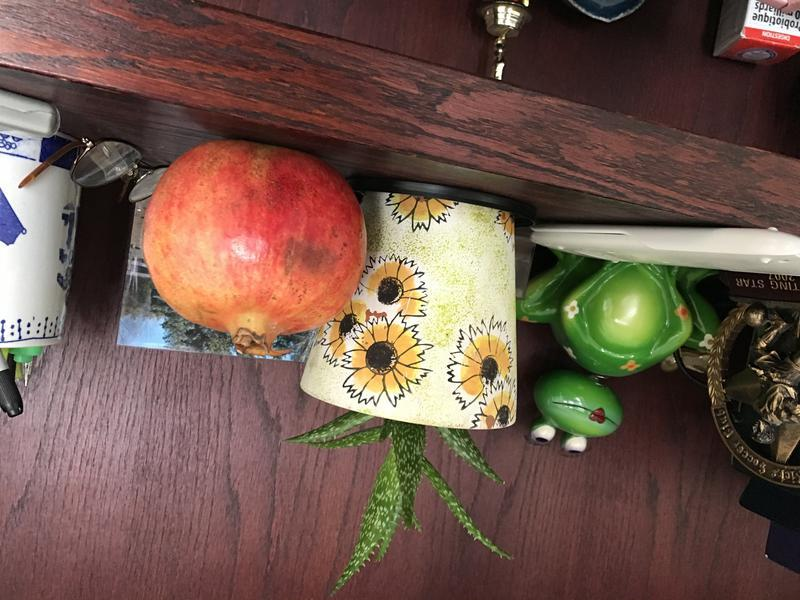pomegranate: (136, 131, 378, 371)
